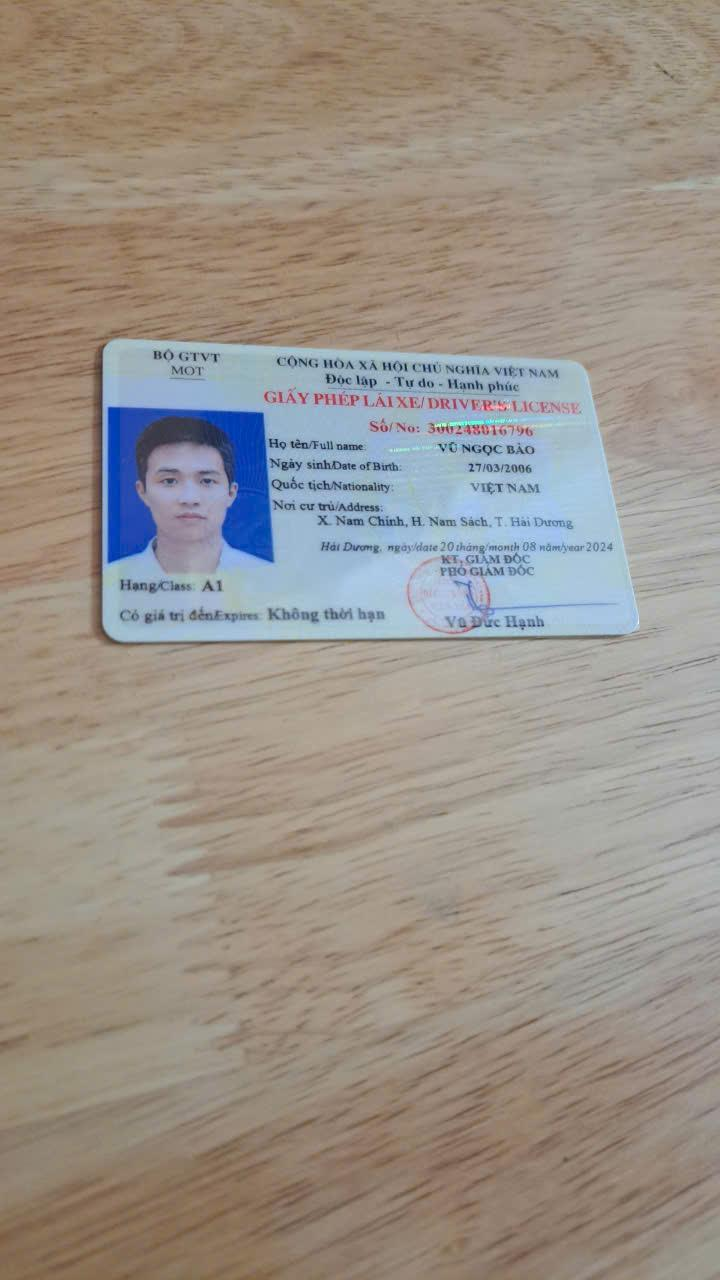gplx: (92, 331, 648, 650)
